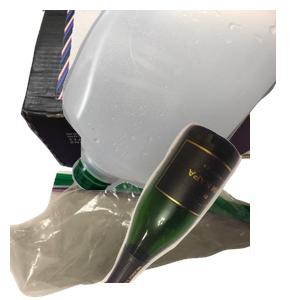cardboard: (18, 10, 258, 171)
glass: (87, 120, 300, 300)
plastic: (60, 10, 300, 190)
trash: (10, 134, 250, 300)
